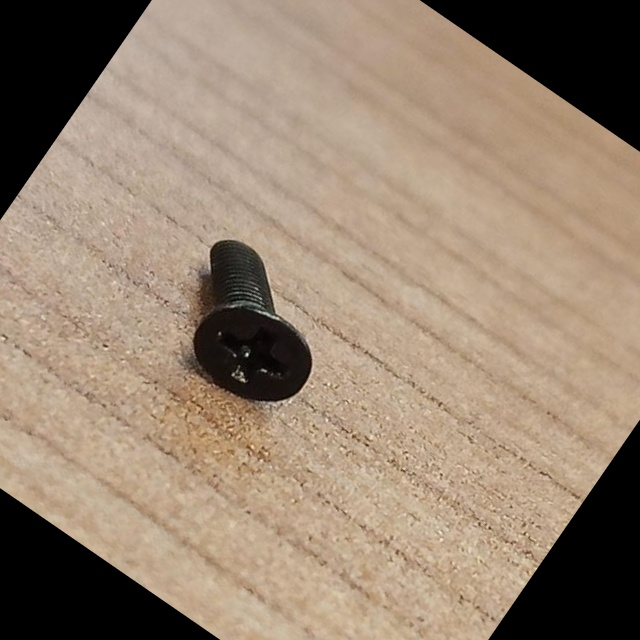phillips: (175, 279, 330, 426)
